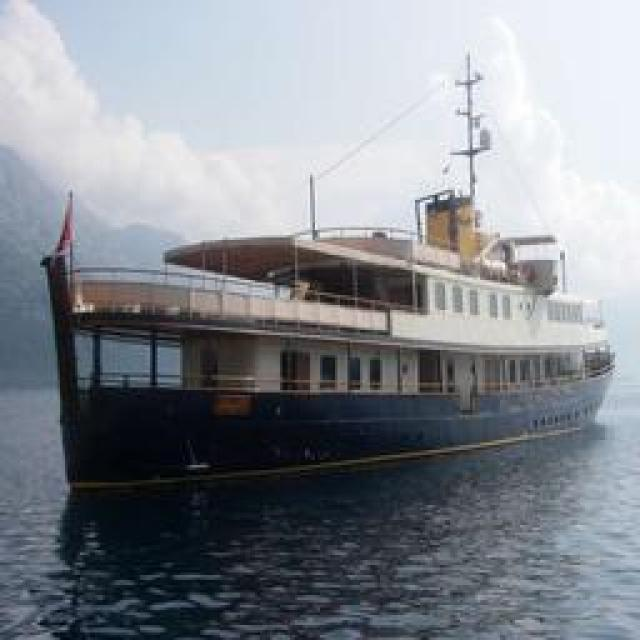CIV_Ship: (46, 187, 619, 495)
